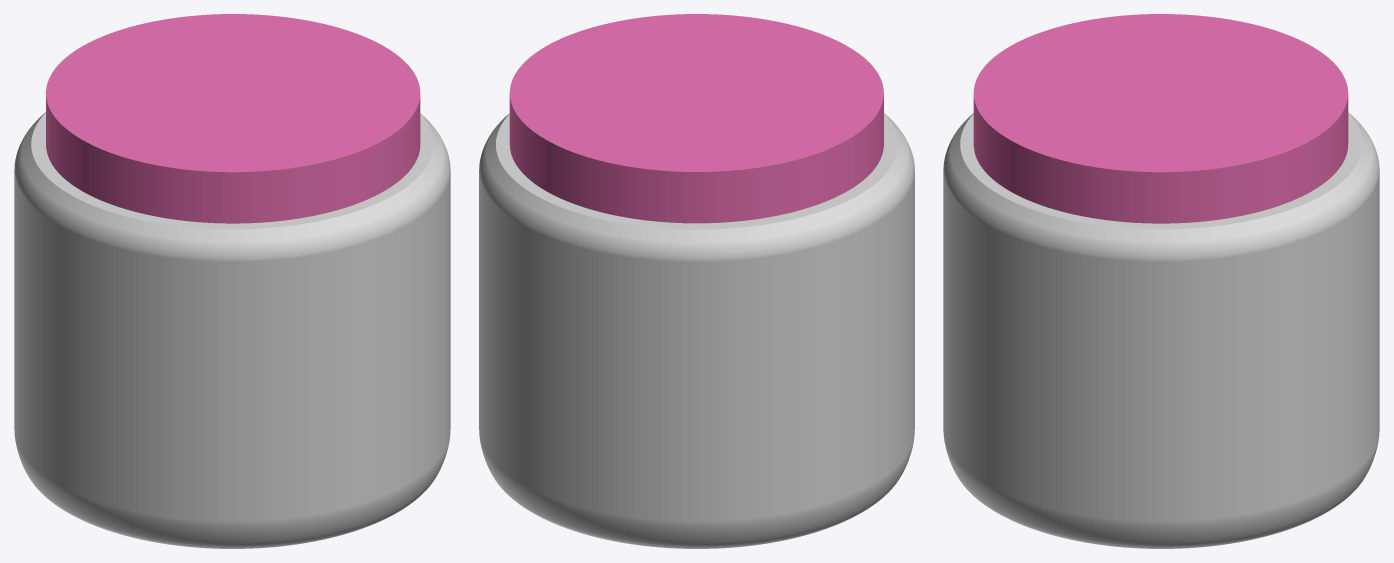
File: Einkaufsladen_Füllmaterial_Schraubdose_Klein_Variante_1_Base_Überprüft.fbx
The picture shows the model from 3 angles, left to right: view 1: azimuth 30°, elevation 25°; view 2: azimuth 150°, elevation 25°; view 3: azimuth 270°, elevation 25°; orthographic projection.
Visible parts, largest first — view 1: Cylinder.011, Cylinder.012; view 2: Cylinder.011, Cylinder.012; view 3: Cylinder.011, Cylinder.012.
Boxes of the visible parts, left/top/right/bottom form: Cylinder.011: left=14, top=112, right=450, bottom=548; Cylinder.012: left=46, top=14, right=420, bottom=223; Cylinder.011: left=479, top=113, right=914, bottom=548; Cylinder.012: left=509, top=14, right=883, bottom=223; Cylinder.011: left=943, top=112, right=1379, bottom=548; Cylinder.012: left=973, top=14, right=1348, bottom=223.
Size of the model in its own units: 1042 by 990 by 1042.
